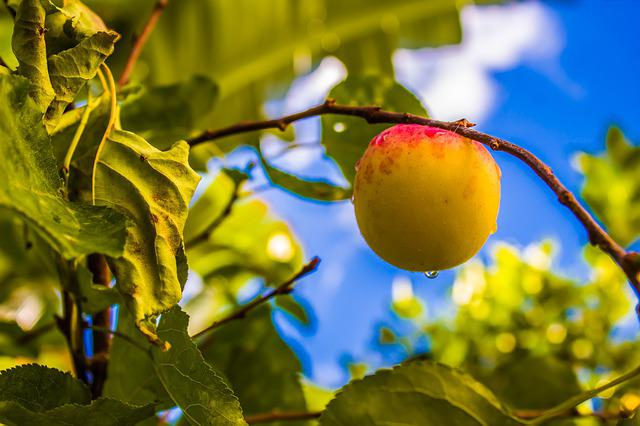peach: (349, 122, 504, 273)
